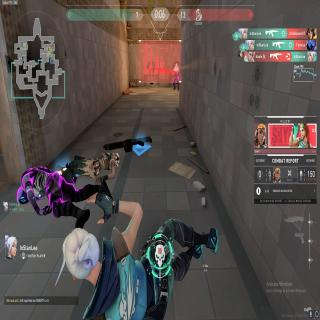ENEMY-BODY: (172, 62, 180, 92)
ENEMY-HEAD: (175, 63, 178, 69)
